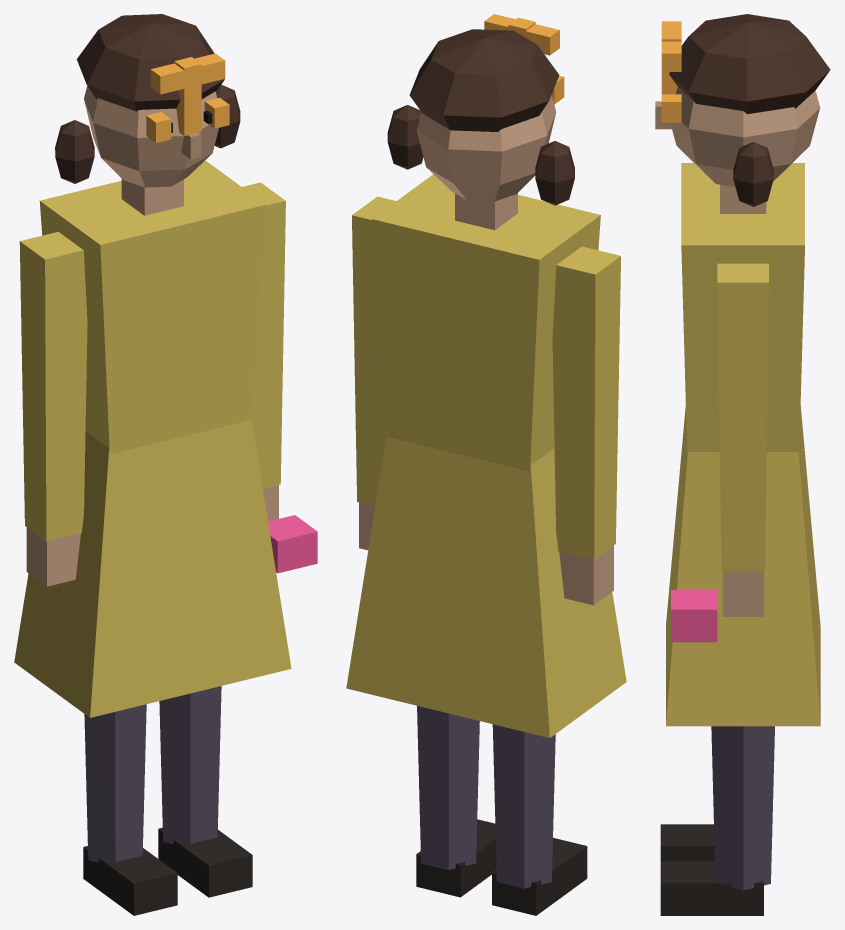
File: figlia.obj
The picture shows the model from 3 angles, left to right: view 1: azimuth 30°, elevation 25°; view 2: azimuth 150°, elevation 25°; view 3: azimuth 270°, elevation 25°; orthographic projection.
Parts seen in each view (by area): view 1: parte_02, parte_00, parte_05, parte_03, parte_01, marchio_08, parte_04; view 2: parte_02, parte_00, parte_05, parte_03, parte_01, marchio_08; view 3: parte_02, parte_05, parte_03, parte_00, parte_01, parte_04, marchio_08.
Boxes of the visible parts, left/top/right/bottom form: parte_02: left=14, top=160, right=291, bottom=717; parte_00: left=84, top=686, right=221, bottom=862; parte_05: left=55, top=14, right=240, bottom=183; parte_03: left=26, top=86, right=278, bottom=586; parte_01: left=83, top=827, right=252, bottom=915; marchio_08: left=146, top=53, right=229, bottom=142; parte_04: left=268, top=515, right=317, bottom=573; parte_02: left=346, top=174, right=626, bottom=737; parte_00: left=417, top=706, right=555, bottom=888; parte_05: left=387, top=29, right=574, bottom=205; parte_03: left=359, top=95, right=613, bottom=605; parte_01: left=416, top=819, right=587, bottom=915; marchio_08: left=484, top=14, right=564, bottom=104; parte_02: left=666, top=163, right=820, bottom=726; parte_05: left=669, top=14, right=830, bottom=206; parte_03: left=672, top=86, right=820, bottom=616; parte_00: left=711, top=726, right=774, bottom=890; parte_01: left=660, top=824, right=763, bottom=915; parte_04: left=671, top=590, right=717, bottom=642; marchio_08: left=661, top=21, right=681, bottom=122.
Bounding box in the file's own units: 0.375 × 1.21 × 0.2234.
